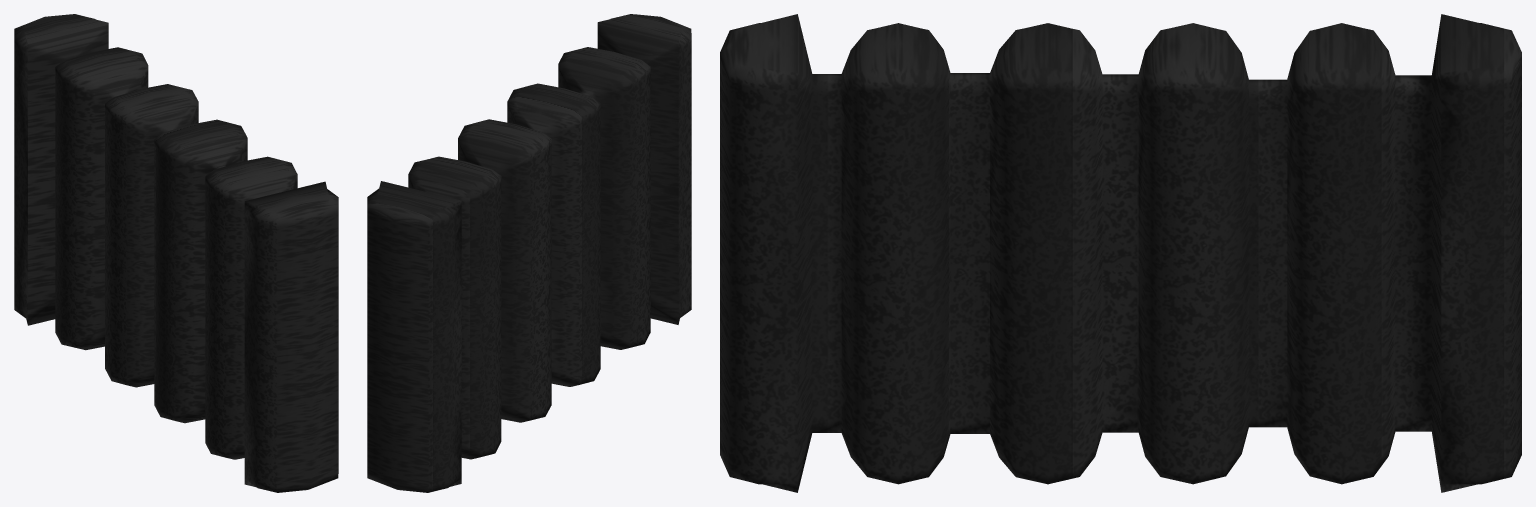
File: floorpiece.fbx
3 views of the same model, side by side, from view 1: azimuth 30°, elevation 25°; view 2: azimuth 150°, elevation 25°; view 3: azimuth 270°, elevation 25° (orthographic). The views are drawn at different scales.
Parts seen in each view (by area): view 1: pCube1; view 2: pCube1; view 3: pCube1.
Part boxes in pixels (box(x1,y1,x2,y2)): pCube1: box(14, 14, 338, 492); pCube1: box(367, 14, 691, 492); pCube1: box(720, 14, 1521, 492).
Bounding box in the file's own units: 1.97 × 6.59 × 11.38.
